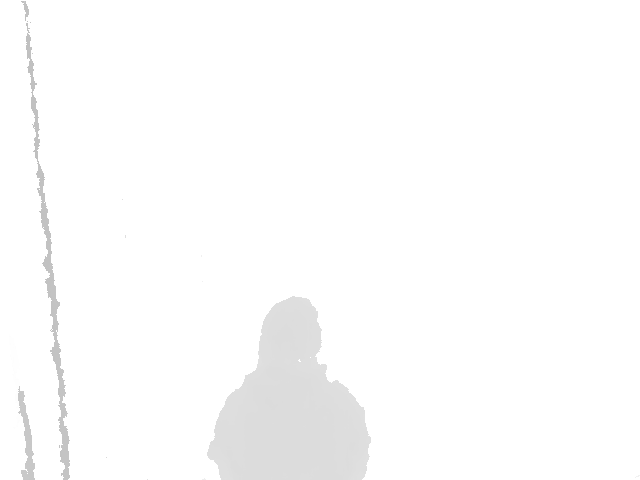head: (258, 297, 322, 381)
person: (207, 297, 372, 480)
